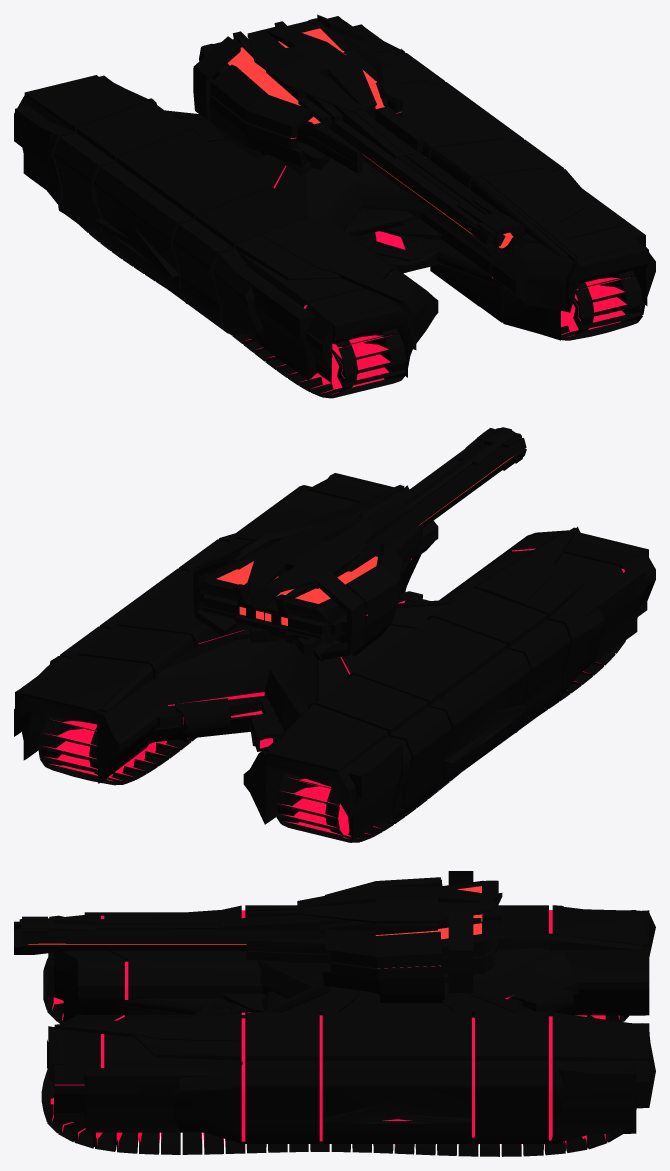
The model's file is boss_juggernaut.glb.
The picture shows the model from 3 angles, top to bottom: view 1: azimuth 30°, elevation 25°; view 2: azimuth 150°, elevation 25°; view 3: azimuth 270°, elevation 25°; orthographic projection. The views are drawn at different scales.
Parts seen in each view (by area): view 1: Tank Armature_0, Cube, Tank Armature_2, Cube.000, Cube.001; view 2: Tank Armature_0, Cube, Tank Armature_2, Cube.001, Cube.000, Tank Armature_1; view 3: Tank Armature_0, Cube, Cube.001, Tank Armature_2, Tank Armature_1, Cube.000.
Part boxes in pixels (x1=…): Tank Armature_0: x1=14, y1=16, x2=655, y2=380; Cube: x1=193, y1=14, x2=526, y2=262; Tank Armature_2: x1=14, y1=95, x2=655, y2=382; Cube.000: x1=79, y1=225, x2=408, y2=398; Cube.001: x1=561, y1=270, x2=644, y2=340; Tank Armature_0: x1=14, y1=473, x2=655, y2=840; Cube: x1=193, y1=427, x2=526, y2=660; Tank Armature_2: x1=263, y1=479, x2=655, y2=791; Cube.001: x1=38, y1=716, x2=196, y2=785; Cube.000: x1=274, y1=617, x2=637, y2=842; Tank Armature_1: x1=168, y1=548, x2=624, y2=809; Tank Armature_0: x1=47, y1=905, x2=655, y2=1144; Cube: x1=14, y1=871, x2=502, y2=1002; Cube.001: x1=41, y1=1068, x2=636, y2=1156; Tank Armature_2: x1=54, y1=913, x2=649, y2=1121; Tank Armature_1: x1=55, y1=910, x2=552, y2=1141; Cube.000: x1=43, y1=957, x2=628, y2=1023.
Size of the model in its own units: 4.04 by 2.13 by 6.37.
